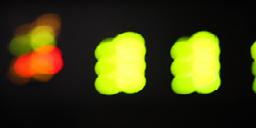LED: (166, 29, 226, 100), (93, 28, 149, 104)
